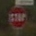stop: (7, 6, 27, 29)
